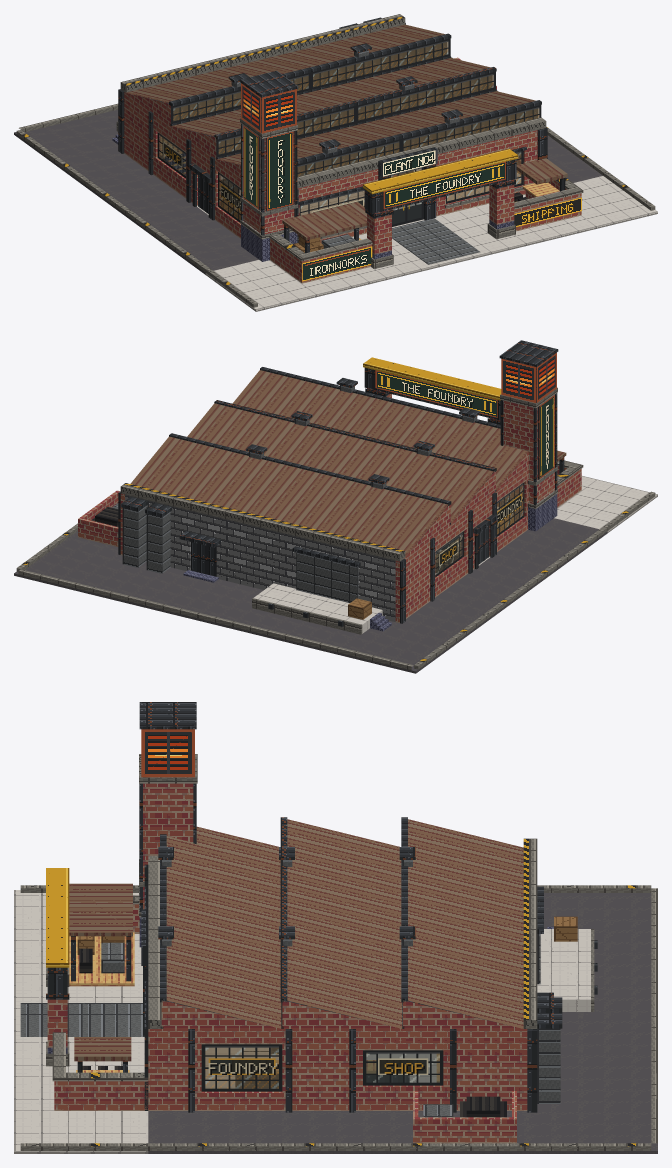
File: foundry-factory.glb
3 renders of one model, top to bottom at view 1: azimuth 30°, elevation 25°; view 2: azimuth 150°, elevation 25°; view 3: azimuth 270°, elevation 25°, orthographic. The views are drawn at different scales.
Parts seen in each view (by area): view 1: structure, lot, foundry_yard, yard_gantry; view 2: structure, lot, service_yard, yard_gantry, foundry_yard; view 3: structure, lot, foundry_yard, service_yard, yard_gantry.
Part boxes in pixels (box(x1,y1,x2,y2)): structure: box(118, 14, 547, 261); lot: box(14, 57, 657, 311); foundry_yard: box(269, 158, 583, 283); yard_gantry: box(363, 148, 518, 268); structure: box(118, 340, 558, 623); lot: box(14, 476, 657, 673); service_yard: box(78, 490, 391, 634); yard_gantry: box(363, 357, 501, 424); foundry_yard: box(557, 450, 583, 507); structure: box(139, 702, 537, 1112); lot: box(14, 885, 657, 1153); foundry_yard: box(52, 883, 148, 1110); service_yard: box(413, 886, 597, 1143); yard_gantry: box(46, 868, 69, 1066).
Size of what is drawn, in the model's own units: 28.56 by 11.48 by 29.8.
Materials: 12 (12 with a texture image).
